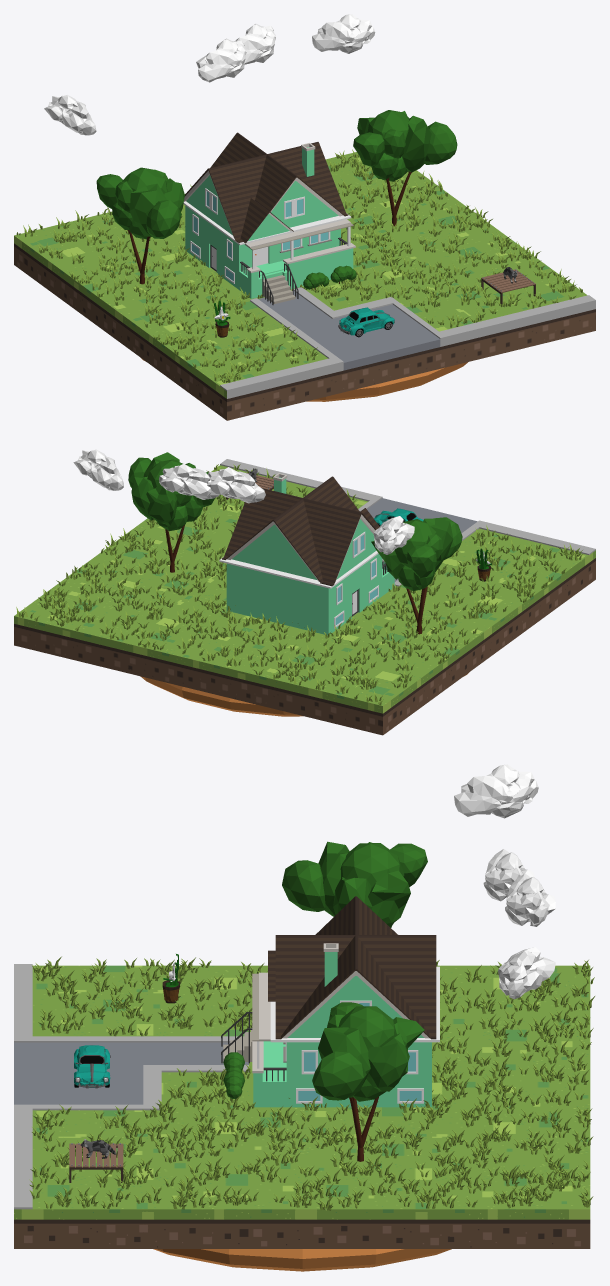
3 renders of one model, top to bottom at view 1: azimuth 30°, elevation 25°; view 2: azimuth 150°, elevation 25°; view 3: azimuth 270°, elevation 25°, orthographic. The views are drawn at different scales.
Parts seen in each view (by area): view 1: Cube.006, Cube.352, Circle.012_Grass_0.192, Cube.007, tree, tree.001, UNDERGROUND_PIZZA, VEHICLES_VOLKSWAGEN, Cube.009; view 2: Cube.006, Cube.352, Circle.012_Grass_0.192, Cube.007, tree.001, tree, UNDERGROUND_PIZZA, VEHICLES_VOLKSWAGEN; view 3: Cube.006, Circle.012_Grass_0.192, Cube.352, tree, Cube.007, tree.001, UNDERGROUND_PIZZA, VEHICLES_VOLKSWAGEN, Cube.009.
Boxes of the visible parts, x1=… form: Cube.006: x1=14, y1=152, x2=595, y2=420; Cube.352: x1=183, y1=132, x2=355, y2=305; Circle.012_Grass_0.192: x1=16, y1=149, x2=582, y2=382; Cube.007: x1=44, y1=14, x2=375, y2=135; tree: x1=353, y1=110, x2=457, y2=226; tree.001: x1=96, y1=167, x2=184, y2=284; UNDERGROUND_PIZZA: x1=141, y1=358, x2=467, y2=401; VEHICLES_VOLKSWAGEN: x1=338, y1=307, x2=394, y2=337; Cube.009: x1=481, y1=269, x2=535, y2=304; Cube.006: x1=14, y1=459, x2=595, y2=735; Cube.352: x1=219, y1=473, x2=394, y2=635; Circle.012_Grass_0.192: x1=16, y1=464, x2=582, y2=705; Cube.007: x1=73, y1=449, x2=414, y2=554; tree.001: x1=371, y1=517, x2=462, y2=634; tree: x1=128, y1=452, x2=214, y2=572; UNDERGROUND_PIZZA: x1=140, y1=673, x2=468, y2=716; VEHICLES_VOLKSWAGEN: x1=374, y1=508, x2=423, y2=526; Cube.006: x1=14, y1=964, x2=590, y2=1248; Circle.012_Grass_0.192: x1=29, y1=956, x2=594, y2=1210; Cube.352: x1=221, y1=896, x2=439, y2=1107; tree: x1=312, y1=1002, x2=424, y2=1161; Cube.007: x1=454, y1=764, x2=555, y2=999; tree.001: x1=282, y1=841, x2=427, y2=927; UNDERGROUND_PIZZA: x1=153, y1=1249, x2=451, y2=1271; VEHICLES_VOLKSWAGEN: x1=74, y1=1045, x2=110, y2=1088; Cube.009: x1=69, y1=1143, x2=123, y2=1182.
Bounding box in the file's own units: 4071 × 2387 × 4040.
40 materials, 3 textured.
